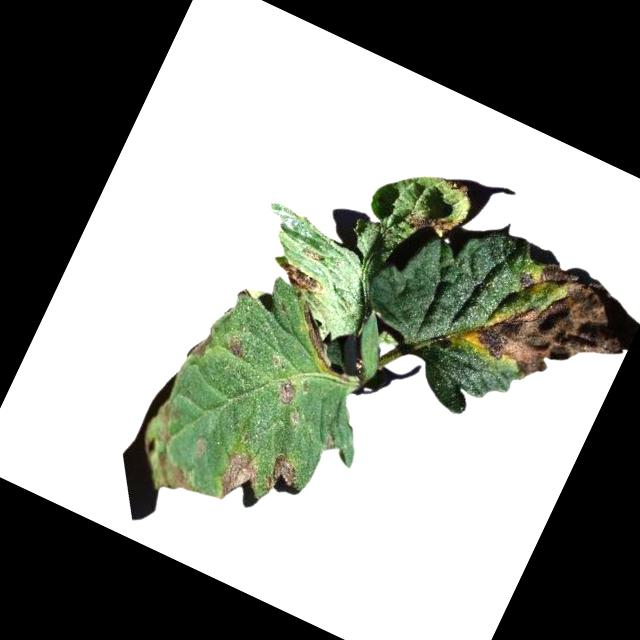Early_blight: (458, 242, 640, 410), (285, 303, 347, 365), (208, 445, 266, 511), (404, 199, 461, 244), (271, 256, 329, 298), (263, 451, 306, 499), (186, 327, 213, 362), (271, 377, 301, 408), (225, 336, 248, 357)
